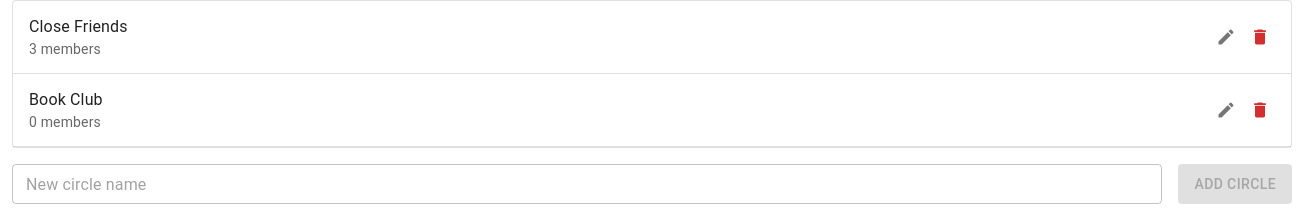
Test: clicking cancel while editing discards the change
Click the button named "Edit" in the row of "Close Friends": (1226, 37) [1211,22,1241,52]
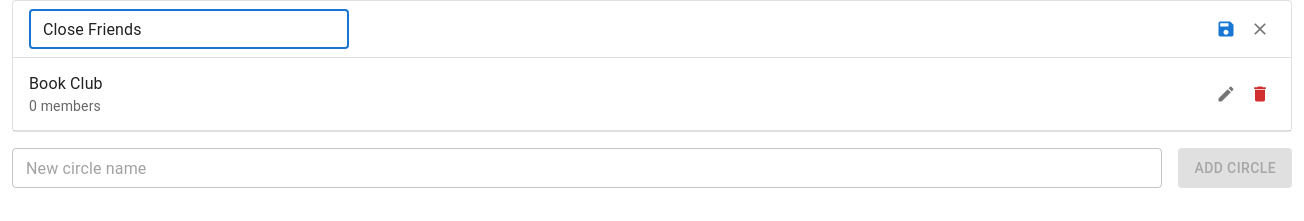
Replace the text in the field showing "Close Friends" with "Changed": (189, 29) [29,9,349,49]
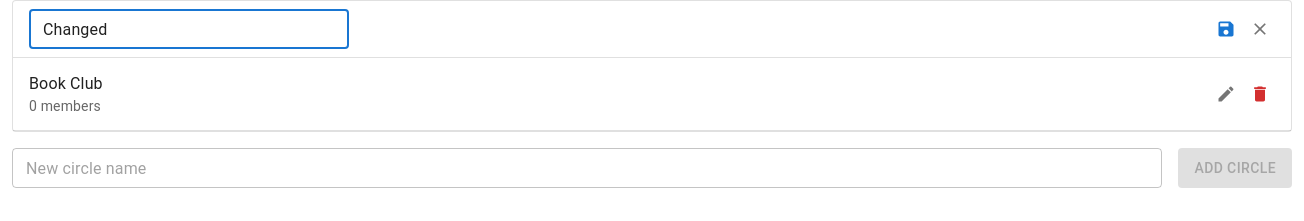
Click the button named "Cancel": (1260, 29) [1245,14,1275,44]
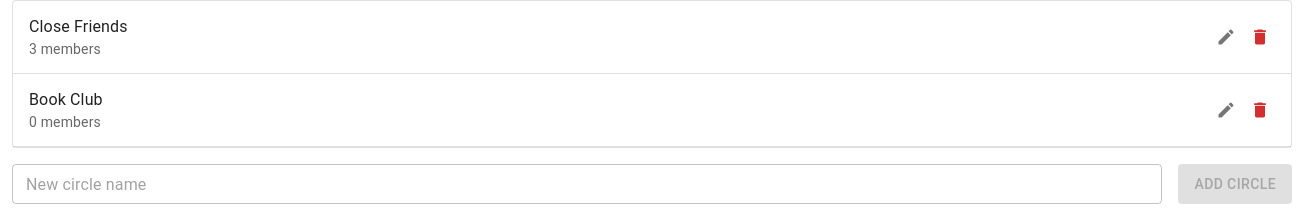
Check: the text "Close Friends" is shown, box [29,17,128,36]
